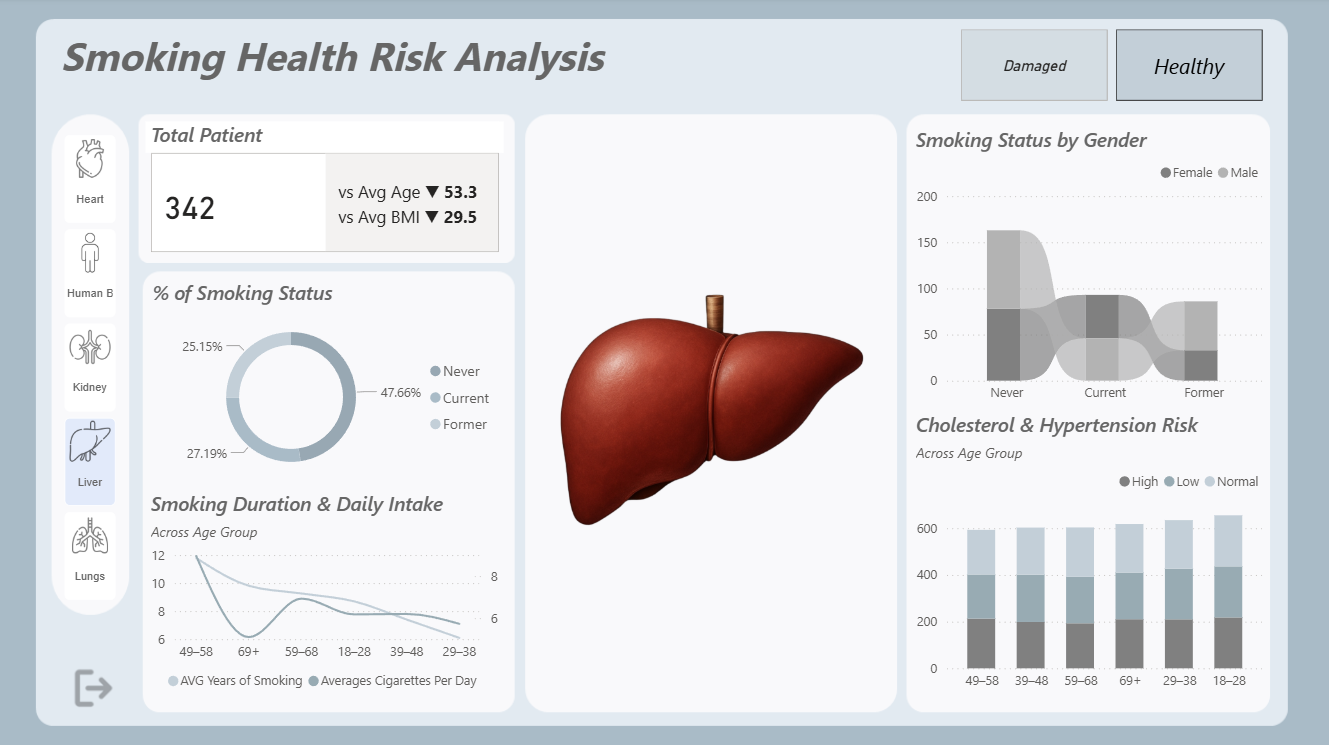

The dashboard page shown, as its layout file describes it:
{"tool":"powerbi","page":{"name":"Page 1","canvas":[1280,720],"ordinal":0},"visuals":[{"type":"advancedSlicerVisual","fields":{"Values":["condition.Organ_Condition"]},"box":[918.6,25.7,298.6,78.6],"z":0},{"type":"cardVisual","title":"Total Patient","fields":{"Data":["CountNonNull(health_dataset.Patient_ID)"]},"box":[145,118.8,342,130],"z":1000},{"type":"ChicletSlicer1448559807354","fields":{"Category":["Organs.Organ"],"Image":["Organs.Icon_URL"]},"box":[58.9,123.2,86.8,465.3],"z":2000},{"type":"image","box":[515,118.3,342,553.3],"z":3000},{"type":"donutChart","title":"% of Smoking Status","fields":{"Category":["health_dataset.Smoking_Status"],"Y":["CountNonNull(health_dataset.Smoking_Status)"]},"box":[145.7,270,341.4,200],"z":4000},{"type":"lineChart","title":"Smoking Duration & Daily Intake","fields":{"Category":["health_dataset.Age Group"],"Y":["Avg(health_dataset.Years_of_Smoking)"],"Y2":["Avg(health_dataset.Cigarettes_Per_Day)"]},"box":[144.3,471.4,341.4,200],"z":5000},{"type":"ribbonChart","title":"Smoking Status by Gender","fields":{"Category":["health_dataset.Smoking_Status"],"Y":["CountNonNull(health_dataset.Patient_ID)"],"Series":["health_dataset.Gender"]},"box":[875.7,122.9,341.4,272.9],"z":6000},{"type":"columnChart","title":"Cholesterol & Hypertension Risk","fields":{"Category":["health_dataset.Age Group"],"Y":["Avg(health_dataset.Cholesterol_Level)"],"Series":["health_dataset.BP_Risk"]},"box":[875.7,395.7,342,275.7],"z":7000},{"type":"textbox","box":[58.6,25.7,547.1,64.3],"z":7001}]}

Visuals, with their boxes in screenshot pixels (x1, y1, x2, y2), scaled from the page's 1280x720 canvas onto the 1329x745 screenshot:
advancedSlicerVisual - condition.Organ_Condition: bbox=[954, 27, 1264, 108]
"Total Patient" cardVisual: bbox=[151, 123, 506, 257]
ChicletSlicer1448559807354 - Organs.Organ x Organs.Icon_URL: bbox=[61, 127, 151, 609]
image: bbox=[535, 122, 890, 695]
"% of Smoking Status" donutChart: bbox=[151, 279, 506, 486]
"Smoking Duration & Daily Intake" lineChart: bbox=[150, 488, 504, 695]
"Smoking Status by Gender" ribbonChart: bbox=[909, 127, 1264, 410]
"Cholesterol & Hypertension Risk" columnChart: bbox=[909, 409, 1264, 695]
textbox: bbox=[61, 27, 629, 93]
